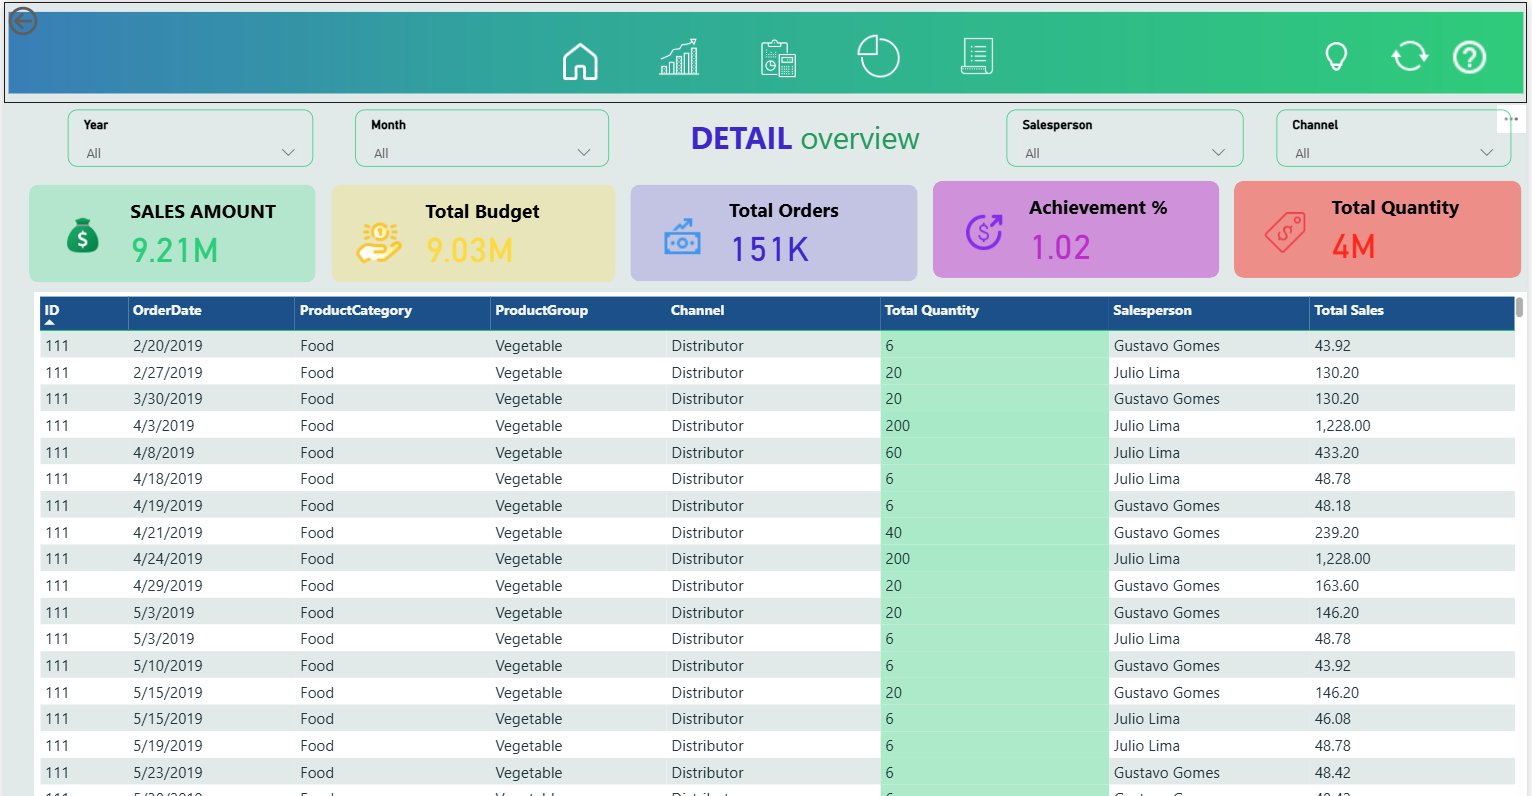

This screenshot's page, from the dashboard's own definition file:
{"tool":"powerbi","page":{"name":"Details Analysis","canvas":[1600,900],"ordinal":8},"visuals":[{"type":"group","id":"g1","title":"Group 1","box":[25.6,190.9,301.8,103],"z":0},{"type":"image","box":[0,0,1599.4,106.5],"z":1000},{"type":"shape","box":[25.6,190.9,301,103],"z":1000,"group":"g1"},{"type":"shape","box":[343.1,190.9,298.2,103],"z":1000,"group":"g5"},{"type":"group","id":"g2","title":"Group 3","box":[656.9,191,302,102],"z":2000},{"type":"shape","box":[656.9,191,301.8,101.9],"z":2000,"group":"g2"},{"type":"image","box":[48.7,217.8,65.7,56.7],"z":2000,"group":"g1"},{"type":"group","id":"g3","title":"Group 4","box":[974.2,188,301,102],"z":3000},{"type":"shape","box":[974.2,188,301,102],"z":3000,"group":"g3"},{"type":"cardVisual","title":"SALES","fields":{"Data":["Sum(SalesData.SalesAmount)"]},"box":[114.4,190.9,213,103],"z":3500,"group":"g1"},{"type":"group","id":"g4","title":"Group 5","box":[1291.3,188,301.8,102],"z":4000},{"type":"shape","box":[1291.3,188,301.8,102],"z":4000,"group":"g4"},{"type":"image","box":[1512.4,32,51.5,53.3],"z":5000},{"type":"image","box":[361.8,220.5,62.6,62.6],"z":5000,"group":"g5"},{"type":"image","box":[1374,32,49.7,51.5],"z":6000},{"type":"image","box":[680.9,217.6,62.7,56.1],"z":6000,"group":"g2"},{"type":"image","box":[1450.3,28.4,49.7,55],"z":7000},{"type":"image","box":[996.2,214.6,62.6,56.2],"z":7000,"group":"g3"},{"type":"group","id":"g5","title":"Group 2","box":[343.1,190.9,298.2,103],"z":8000},{"type":"image","box":[1313.3,214.6,62.7,56.2],"z":8000,"group":"g4"},{"type":"cardVisual","title":"SALES","fields":{"Data":["#Measure.Total Budget"]},"box":[424.8,190.9,202.4,103],"z":9000,"group":"g5"},{"type":"tableEx","fields":{"Values":["Product.ID","SalesData.OrderDate","Product.ProductCategory","Product.ProductGroup","SalesData.Channel","#Measure.Total Quantity","Salesperson.Salesperson","#Measure.Total Sales"]},"box":[31.4,303.7,1568.1,595.5],"z":9000},{"type":"actionButton","box":[0,0,100,40],"z":10000},{"type":"cardVisual","title":"SALES","fields":{"Data":["#Measure.Total Orders"]},"box":[743.7,191,203.4,101.9],"z":10000,"group":"g2"},{"type":"image","box":[568.1,33.7,74,58],"z":11000},{"type":"cardVisual","title":"SALES","fields":{"Data":["#Measure.Budget Achievement %"]},"box":[1058.8,188,202.9,102],"z":11000,"group":"g3"},{"type":"image","box":[671.9,27.7,74,58],"z":12000},{"type":"cardVisual","title":"SALES","fields":{"Data":["#Measure.Total Quantity"]},"box":[1376.1,188,203.4,102],"z":12000,"group":"g4"},{"type":"image","box":[775.1,31.4,74.8,58.4],"z":13000},{"type":"image","box":[879.8,26.9,74.8,58.4],"z":14000},{"type":"image","box":[984.5,26.9,74.8,58.4],"z":15000},{"type":"slicer","fields":{"Values":["Calender Table.Year"]},"box":[67.3,112.7,257.4,60.4],"z":16000},{"type":"slicer","fields":{"Values":["Calender Table.Month"]},"box":[369.1,112.7,266.3,60.4],"z":17000},{"type":"slicer","fields":{"Values":["Salesperson.Salesperson"]},"box":[1052.6,112.7,248.5,60.4],"z":18000},{"type":"slicer","fields":{"Values":["SalesData.Channel"]},"box":[1334.8,112.7,246.7,60.4],"z":19000},{"type":"textbox","box":[634.7,115.8,410.9,63.9],"z":20000}]}

Visuals, with their boxes on the page's 1600x900 design canvas (x1, y1, x2, y2). These are canvas units, not pixel positions in the 1532x796 screenshot, which may show the page scaled, cropped or inside an application window:
"Group 1" group: region(26, 191, 327, 294)
image: region(0, 0, 1599, 106)
shape: region(26, 191, 327, 294)
shape: region(343, 191, 641, 294)
"Group 3" group: region(657, 191, 959, 293)
shape: region(657, 191, 959, 293)
image: region(49, 218, 114, 274)
"Group 4" group: region(974, 188, 1275, 290)
shape: region(974, 188, 1275, 290)
"SALES" cardVisual: region(114, 191, 327, 294)
"Group 5" group: region(1291, 188, 1593, 290)
shape: region(1291, 188, 1593, 290)
image: region(1512, 32, 1564, 85)
image: region(362, 220, 424, 283)
image: region(1374, 32, 1424, 84)
image: region(681, 218, 744, 274)
image: region(1450, 28, 1500, 83)
image: region(996, 215, 1059, 271)
"Group 2" group: region(343, 191, 641, 294)
image: region(1313, 215, 1376, 271)
"SALES" cardVisual: region(425, 191, 627, 294)
tableEx - Product.ID x SalesData.OrderDate: region(31, 304, 1600, 899)
actionButton: region(0, 0, 100, 40)
"SALES" cardVisual: region(744, 191, 947, 293)
image: region(568, 34, 642, 92)
"SALES" cardVisual: region(1059, 188, 1262, 290)
image: region(672, 28, 746, 86)
"SALES" cardVisual: region(1376, 188, 1580, 290)
image: region(775, 31, 850, 90)
image: region(880, 27, 955, 85)
image: region(984, 27, 1059, 85)
slicer - Calender Table.Year: region(67, 113, 325, 173)
slicer - Calender Table.Month: region(369, 113, 635, 173)
slicer - Salesperson.Salesperson: region(1053, 113, 1301, 173)
slicer - SalesData.Channel: region(1335, 113, 1582, 173)
textbox: region(635, 116, 1046, 180)
